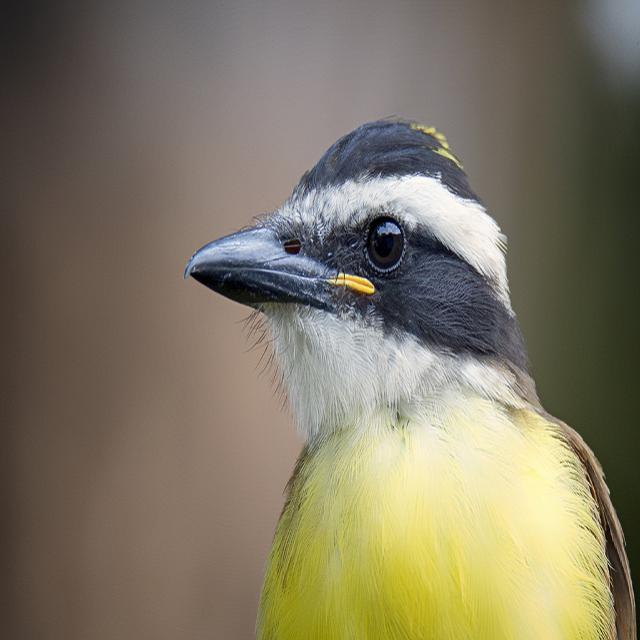bird: (152, 75, 640, 640)
